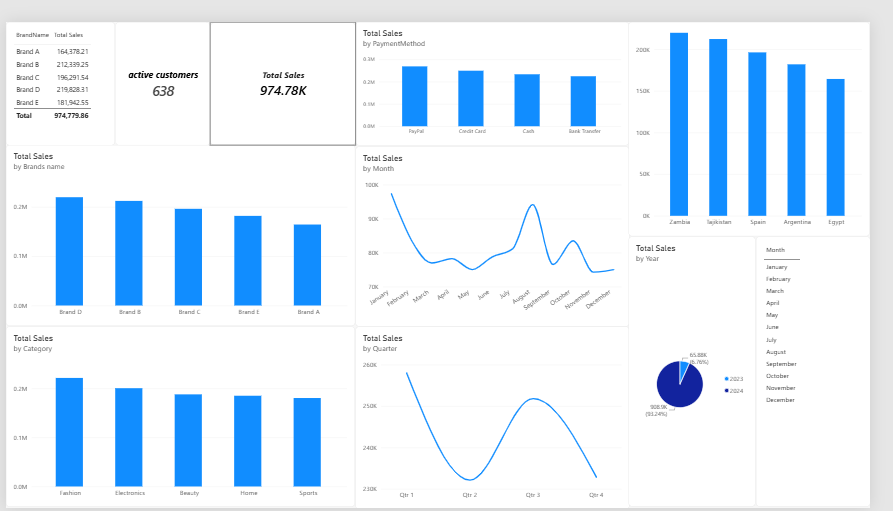

What the dashboard file says about the page in this screenshot:
{"tool":"powerbi","page":{"name":"Page 1","canvas":[1920,1080],"ordinal":0},"visuals":[{"type":"tableEx","fields":{"Values":["brands.BrandName","2023&2024.total 2"]},"box":[0,0,242,274],"z":0},{"type":"columnChart","fields":{"Category":["brands.BrandName"],"Y":["2023&2024.total 2"]},"box":[0,274,776,402],"z":1000},{"type":"columnChart","fields":{"Category":["products.Category"],"Y":["2023&2024.total 2"]},"box":[0,675.2,775.4,400.8],"z":2000},{"type":"lineChart","fields":{"Category":["2023&2024.Date.Variation.Date Hierarchy.Quarter"],"Y":["2023&2024.total m"]},"box":[775,675,608.8,406.2],"z":3000},{"type":"lineChart","fields":{"Category":["2023&2024.Date.Variation.Date Hierarchy.Month"],"Y":["2023&2024.total m"]},"box":[775,275,608.8,400],"z":4000},{"type":"clusteredColumnChart","fields":{"Category":["2023&2024.PaymentMethod"],"Y":["2023&2024.total m"]},"box":[776,0,608,274],"z":5000},{"type":"clusteredColumnChart","fields":{"Category":["brands.CountryOfOrigin"],"Y":["2023&2024.Total Sales By Brand"]},"box":[1384,0,536,476],"z":6000},{"type":"pieChart","fields":{"Category":["2023&2024.Date.Variation.Date Hierarchy.Year"],"Y":["2023&2024.total m"]},"box":[1384,476,282,600],"z":7000},{"type":"tableEx","fields":{"Values":["2023&2024.Date.Variation.Date Hierarchy.Month"]},"box":[1666,476,254,600],"z":8000},{"type":"cardVisual","fields":{"Data":["2023&2024.active customers"]},"box":[242,0,210,274],"z":9000},{"type":"cardVisual","fields":{"Data":["2023&2024.Total Sales"]},"box":[452,0,324,274],"z":10000}]}

Visuals, with their boxes in screenshot pixels (x1, y1, x2, y2), scaled from the page's 1920x1080 canvas onto the 893x511 screenshot:
tableEx - brands.BrandName x 2023&2024.total 2: x1=0, y1=0, x2=113, y2=130
columnChart - brands.BrandName x 2023&2024.total 2: x1=0, y1=130, x2=361, y2=320
columnChart - products.Category x 2023&2024.total 2: x1=0, y1=319, x2=361, y2=509
lineChart - 2023&2024.Date.Variation.Date Hierarchy.Quarter x 2023&2024.total m: x1=360, y1=319, x2=644, y2=510
lineChart - 2023&2024.Date.Variation.Date Hierarchy.Month x 2023&2024.total m: x1=360, y1=130, x2=644, y2=319
clusteredColumnChart - 2023&2024.PaymentMethod x 2023&2024.total m: x1=361, y1=0, x2=644, y2=130
clusteredColumnChart - brands.CountryOfOrigin x 2023&2024.Total Sales By Brand: x1=644, y1=0, x2=892, y2=225
pieChart - 2023&2024.Date.Variation.Date Hierarchy.Year x 2023&2024.total m: x1=644, y1=225, x2=775, y2=509
tableEx - 2023&2024.Date.Variation.Date Hierarchy.Month: x1=775, y1=225, x2=892, y2=509
cardVisual - 2023&2024.active customers: x1=113, y1=0, x2=210, y2=130
cardVisual - 2023&2024.Total Sales: x1=210, y1=0, x2=361, y2=130
